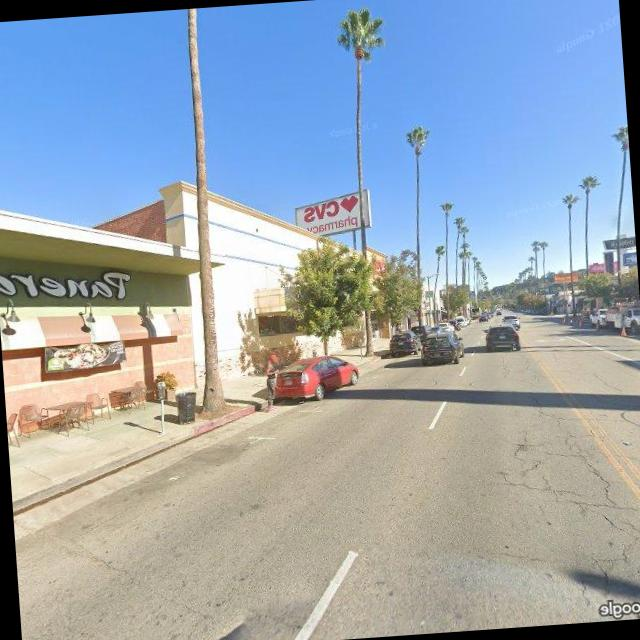crack: (491, 387, 640, 610)
